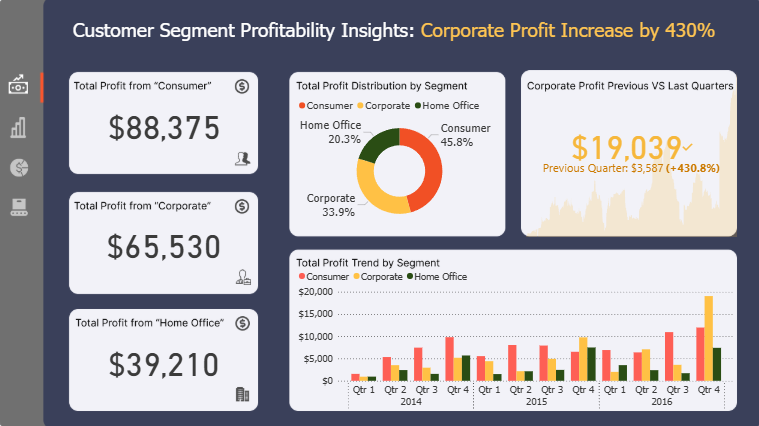

The dashboard page shown, as its layout file describes it:
{"tool":"powerbi","page":{"name":"Page 1","canvas":[1280,720],"ordinal":0},"visuals":[{"type":"donutChart","fields":{"Category":["Customers.Segment"],"Y":["Sum(SalesTransaction.Profit)"]},"box":[502.5,154.3,348.2,230.7],"z":0},{"type":"clusteredColumnChart","fields":{"Category":["SalesTransaction.Ship Date.Variation.Date Hierarchy.Year","SalesTransaction.Ship Date.Variation.Date Hierarchy.Quarter","SalesTransaction.Ship Date.Variation.Date Hierarchy.Month","SalesTransaction.Ship Date.Variation.Date Hierarchy.Day"],"Y":["Sum(SalesTransaction.Profit)"],"Series":["Customers.Segment"]},"box":[503.3,440,736.7,253.3],"z":1000},{"type":"card","fields":{"Values":["SalesTransaction.Overall Profit of Consumers"]},"box":[127.8,122,314.4,170.4],"z":2000},{"type":"card","fields":{"Values":["SalesTransaction.Total Profit of Corporate"]},"box":[126.4,320.3,315.9,171.9],"z":3000},{"type":"card","fields":{"Values":["SalesTransaction.Total Profit of Home Office"]},"box":[126.4,517.2,315.9,170.4],"z":4000},{"type":"kpi","title":"Corporate Profit Last and Previous Quarter Change ","fields":{"Indicator":["SalesTransaction.Corporate Profit Last Quarter"],"TrendLine":["SalesTransaction.Ship Date"],"Goal":["SalesTransaction.Corporate Profit Previous Quarter"]},"box":[883.3,116.7,361.7,285],"z":5000},{"type":"textbox","box":[127.8,26.4,1112.3,73.5],"z":6000},{"type":"actionButton","box":[11.8,186.6,70.5,55.8],"z":7000},{"type":"actionButton","box":[11.8,254.2,70.5,55.8],"z":8000},{"type":"actionButton","box":[11.8,320.3,70.5,55.8],"z":9000}]}

Visuals, with their boxes on the page's 1280x720 design canvas (x1, y1, x2, y2). These are canvas units, not pixel positions in the 759x426 screenshot, which may show the page scaled, cropped or inside an application window:
donutChart - Customers.Segment x Sum(SalesTransaction.Profit): <box>502,154,851,385</box>
clusteredColumnChart - SalesTransaction.Ship Date.Variation.Date Hierarchy.Year x SalesTransaction.Ship Date.Variation.Date Hierarchy.Quarter: <box>503,440,1240,693</box>
card - SalesTransaction.Overall Profit of Consumers: <box>128,122,442,292</box>
card - SalesTransaction.Total Profit of Corporate: <box>126,320,442,492</box>
card - SalesTransaction.Total Profit of Home Office: <box>126,517,442,688</box>
"Corporate Profit Last and Previous Quarter Change " kpi: <box>883,117,1245,402</box>
textbox: <box>128,26,1240,100</box>
actionButton: <box>12,187,82,242</box>
actionButton: <box>12,254,82,310</box>
actionButton: <box>12,320,82,376</box>
